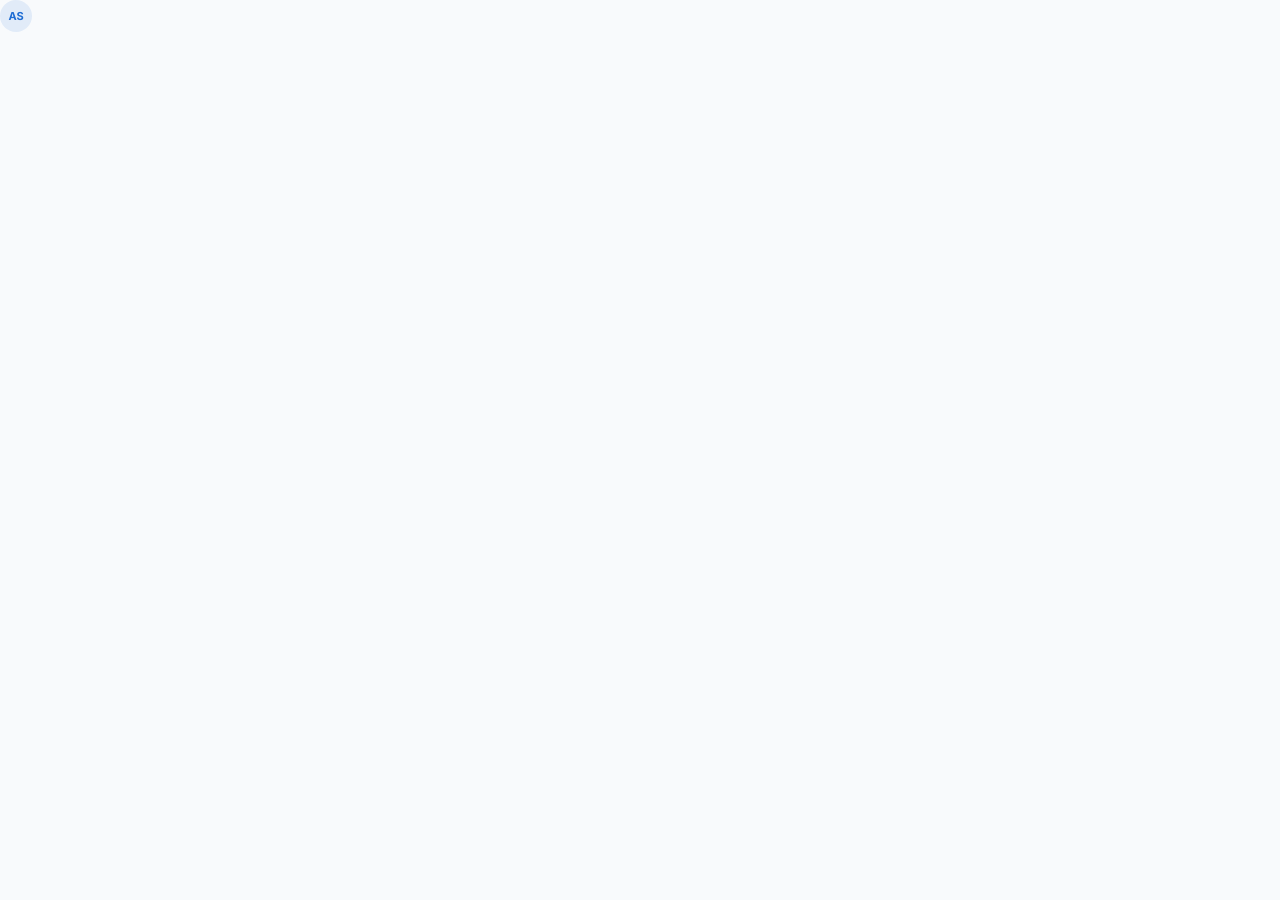
Menu do utilizador › "Sugerir melhoria" abre o formulário de sugestão
The image size is (1280, 900).
Press Enter in the button with aria-label "Menu do utilizador", box 0,0 -> 32,32
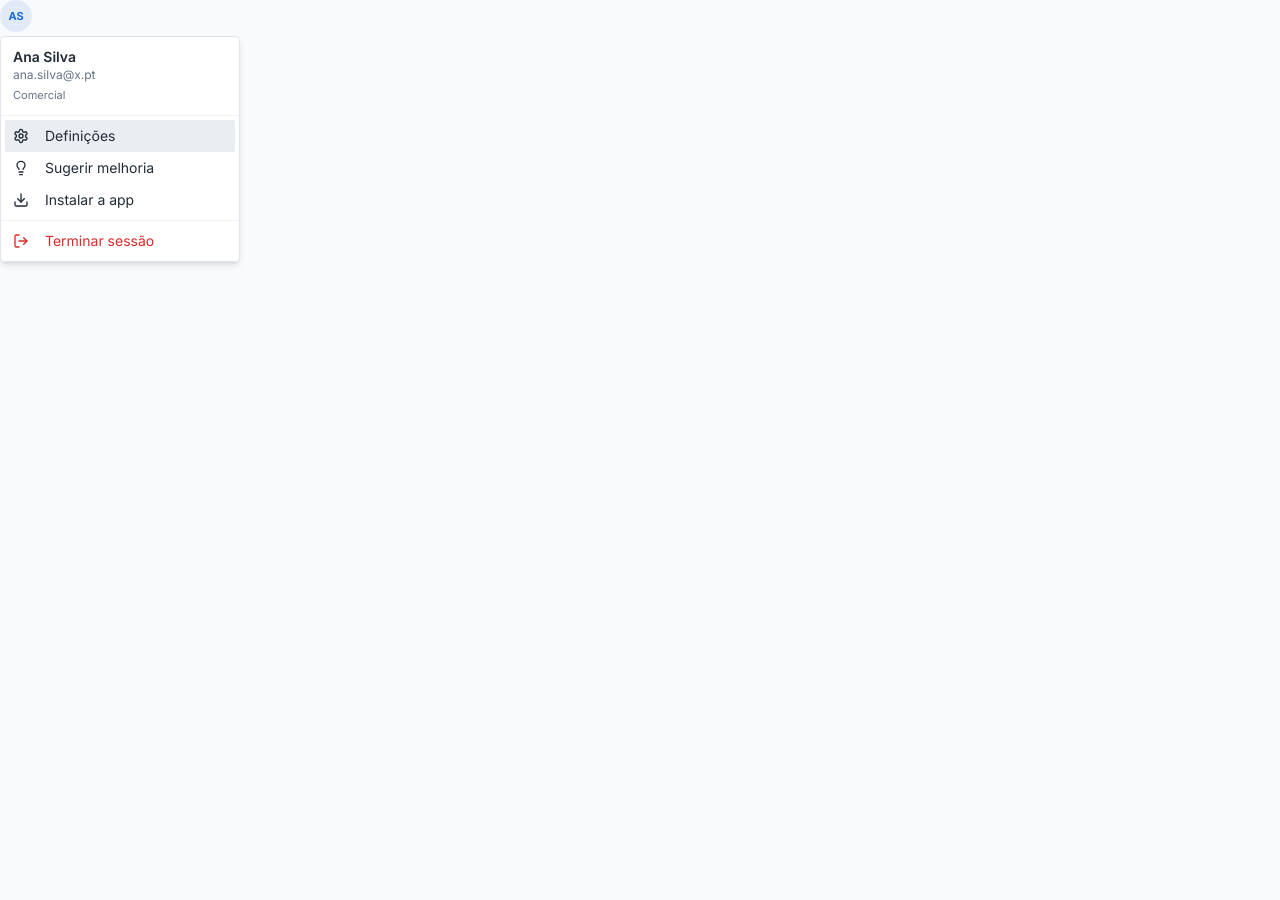
Click the menu item "Sugerir melhoria" at (84, 168), box 13,159 -> 154,176
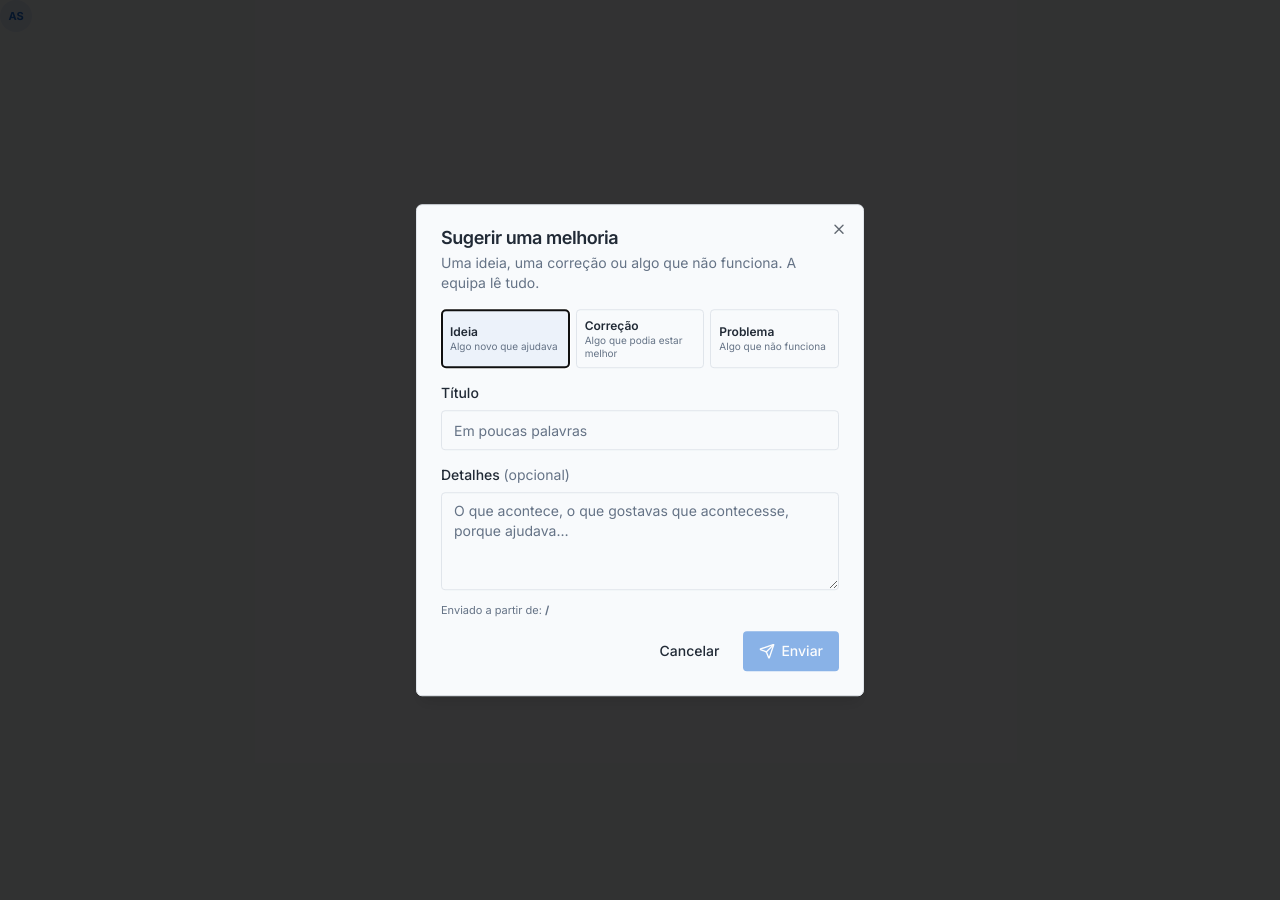
Check: the heading "Sugerir uma melhoria" is shown, box 441,227 -> 618,248
